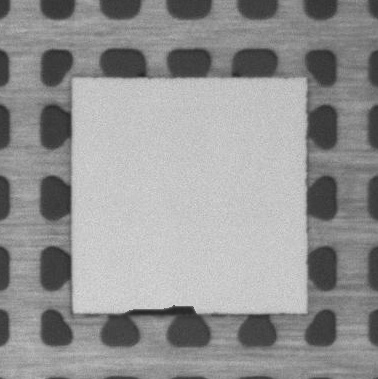DIE_BROKEN: (125, 303, 199, 316)
